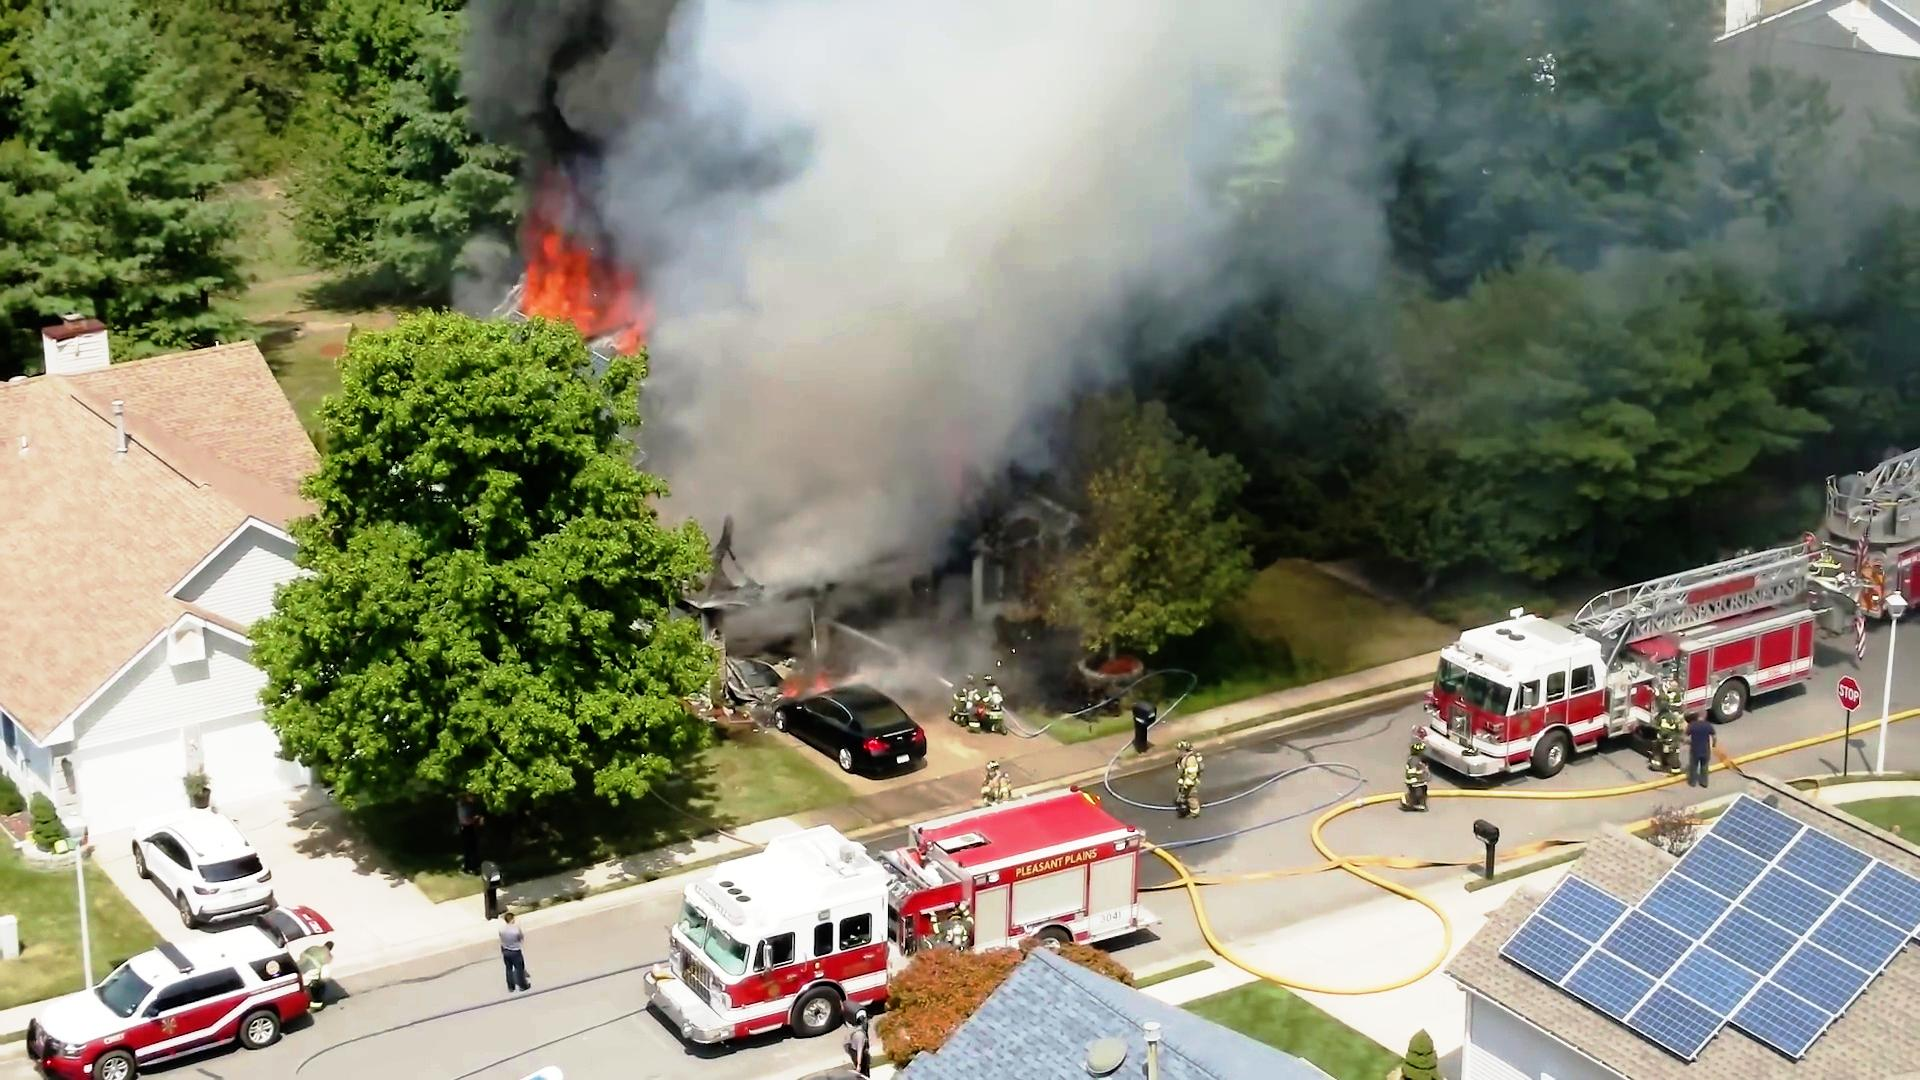fire: (510, 181, 653, 327)
smoke: (675, 73, 1027, 513), (505, 0, 655, 167)
